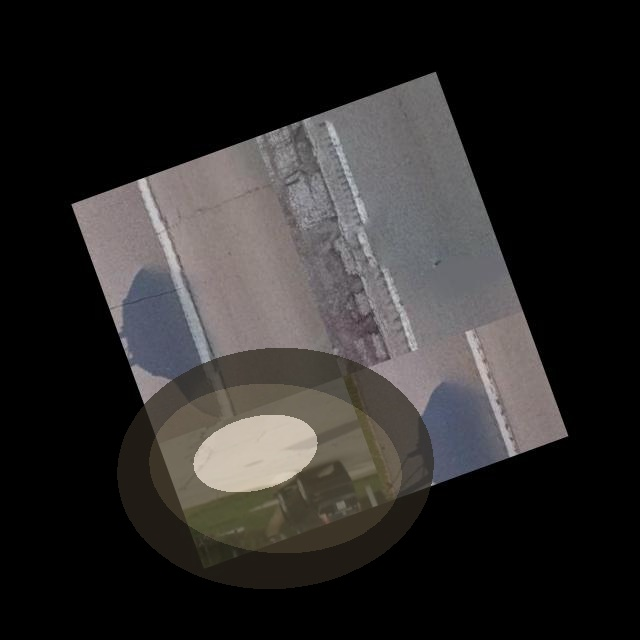waterlogging: (107, 338, 443, 598)
